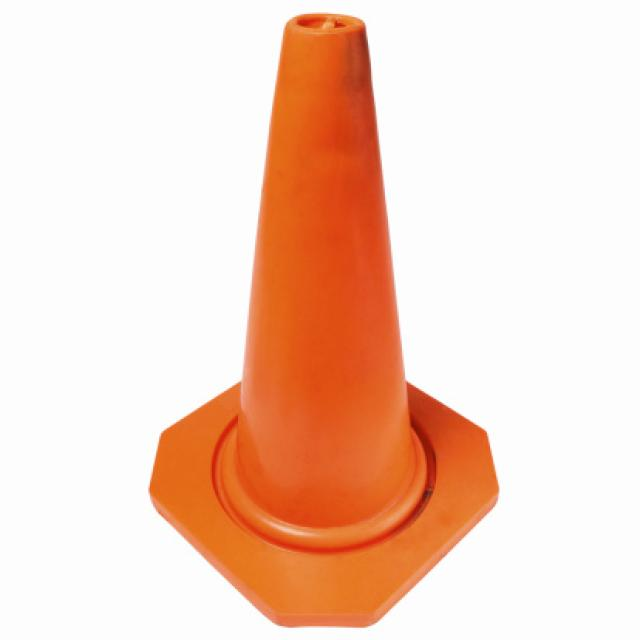cone: (132, 8, 502, 626)
